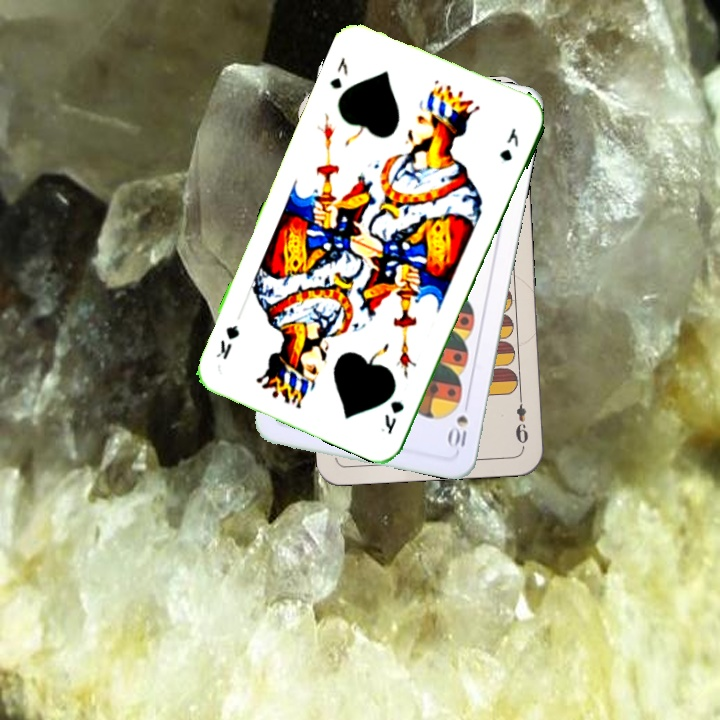E9: (512, 390, 531, 449)
GK: (376, 397, 407, 437), (325, 53, 351, 92)
S10: (445, 395, 472, 454)
